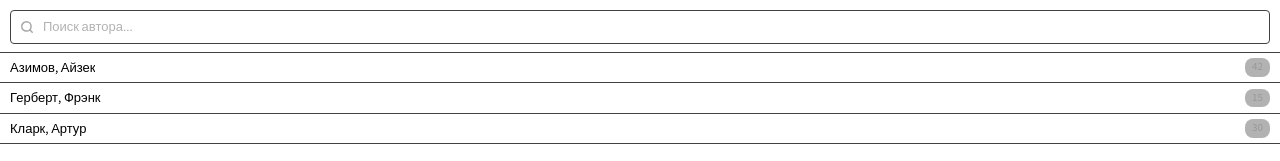
Scenario: AuthorsTab › clears search resets list
Type something and then clear
Type "test" into the field with placeholder "Поиск автора..." at [640, 27], box [10, 10, 1270, 44]
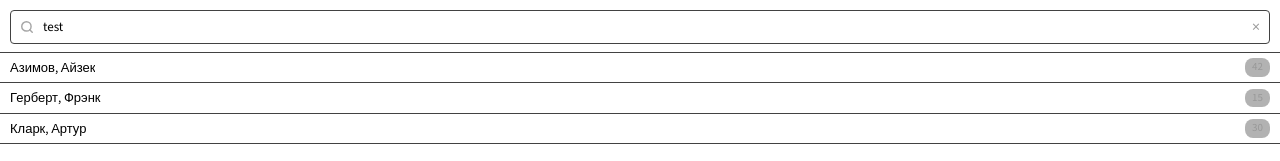
Click the button with class "search-input-clear" at [1256, 27], box [1248, 19, 1264, 35]
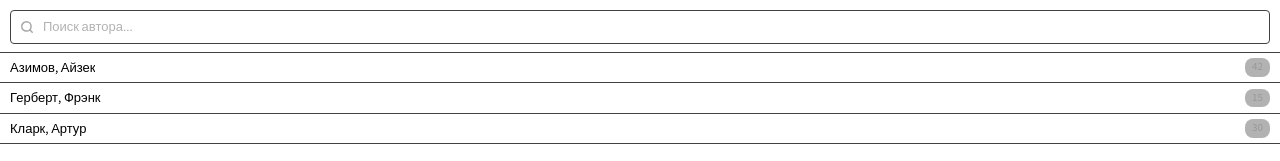
Now the field with placeholder "Поиск автора..." is empty, box [10, 10, 1270, 44]
